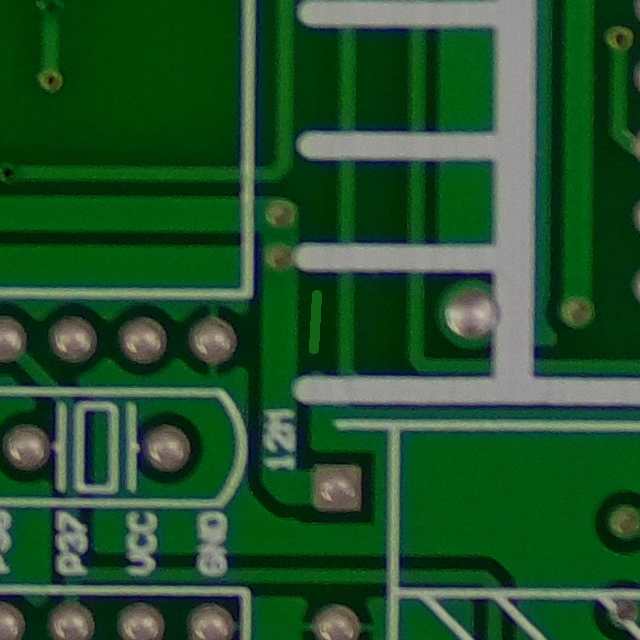spurious_copper: (299, 279, 342, 362)
